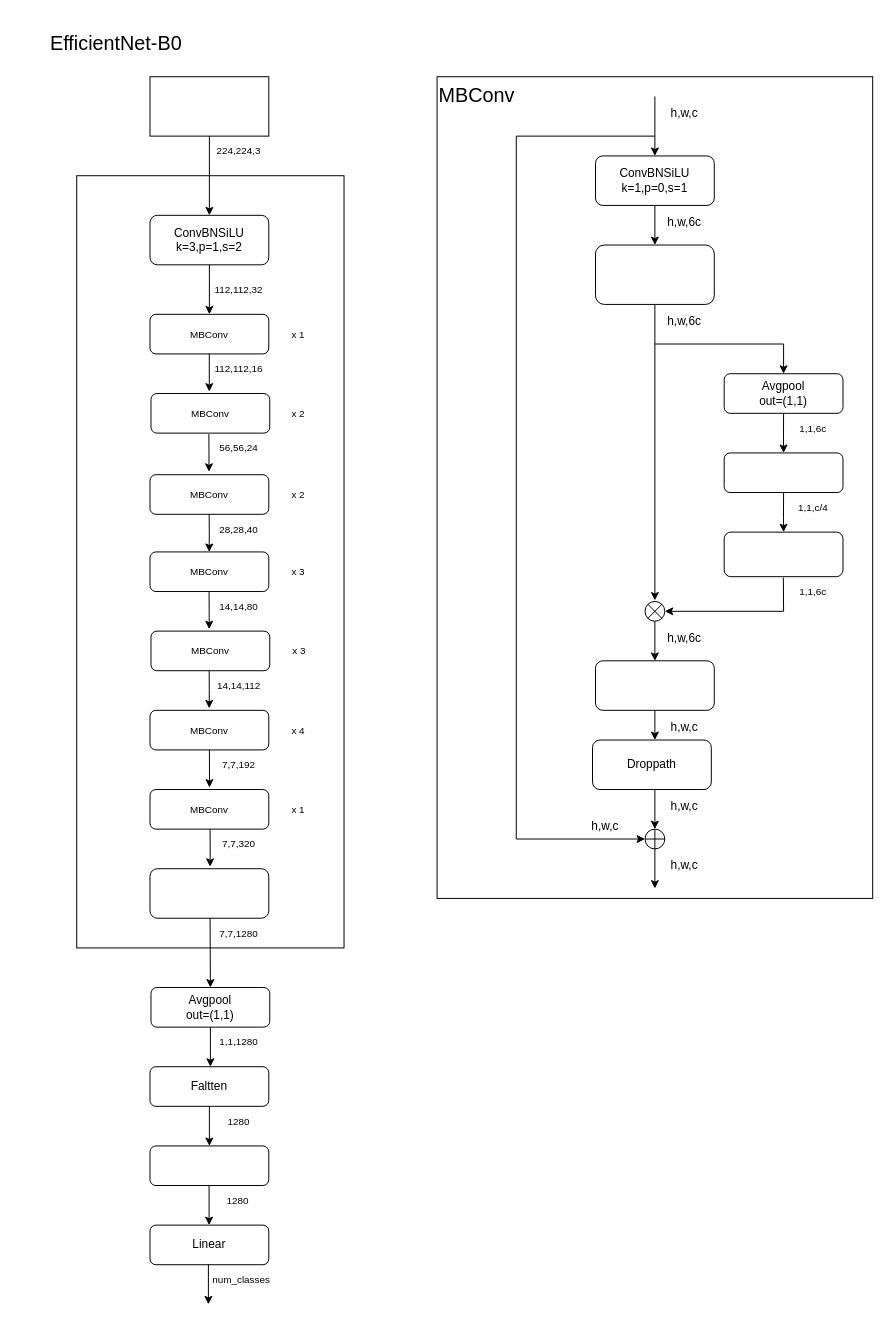
This 890x1330 diagram has some shape labels left out. The box of each missing label's shape, as (x1, y1, x2, y2) in pixels:
ConvBN k=1,p=0,s=1: (594, 660, 714, 710)
ConvBNSiLU k=3,p=1,s=1: (149, 868, 269, 918)
ConvSigmoid k=1,p=0,s=1: (723, 531, 843, 577)
ConvSiLU k=1,p=0,s=1: (723, 452, 843, 493)
Dropout: (149, 1145, 269, 1186)
DWConvBNSiLU k=3/5,p=1/3,s=1/2: (594, 244, 714, 304)
features: (76, 175, 344, 948)
input: (149, 76, 269, 136)
